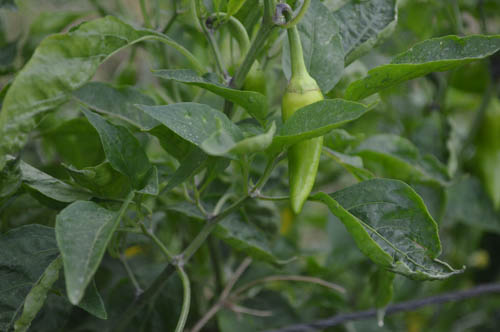ChiliPepper: (283, 90, 328, 218)
